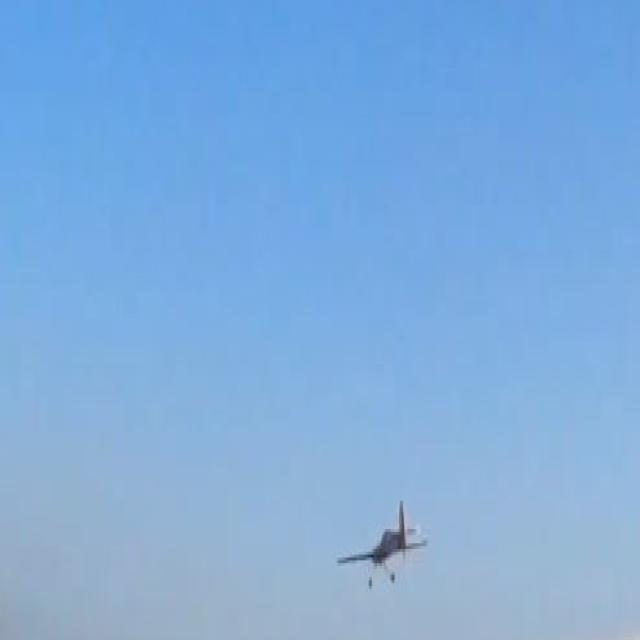iha: (369, 530, 397, 561)
